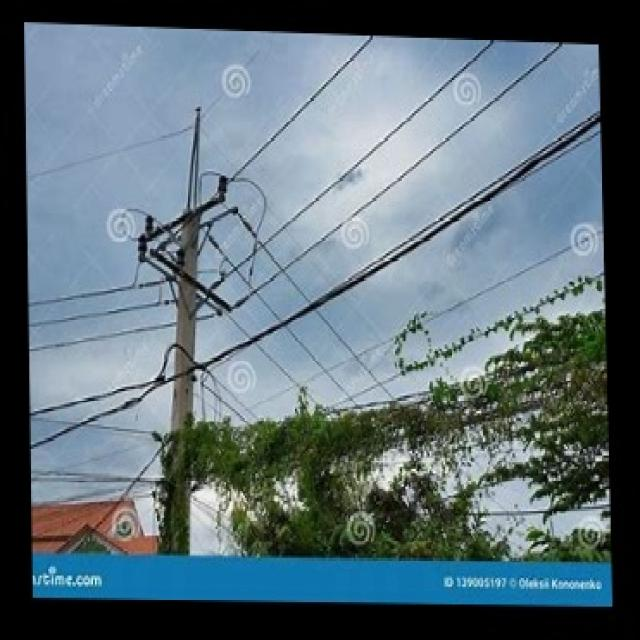critical vegetation: (185, 366, 606, 488)
